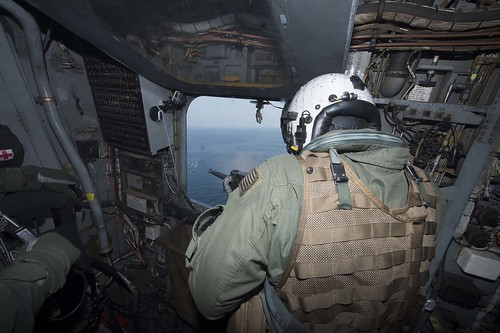soldier: (174, 72, 452, 333)
